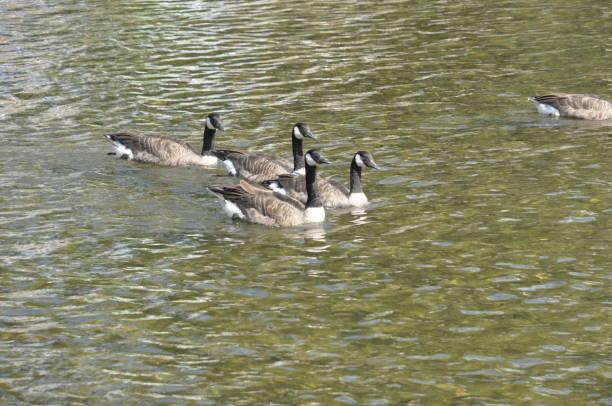Canadian-Goose: (213, 151, 332, 227), (108, 109, 224, 173), (217, 118, 315, 177), (285, 150, 379, 209)
